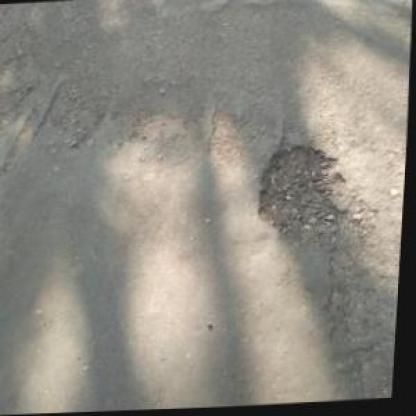pothole: (252, 140, 364, 241)
